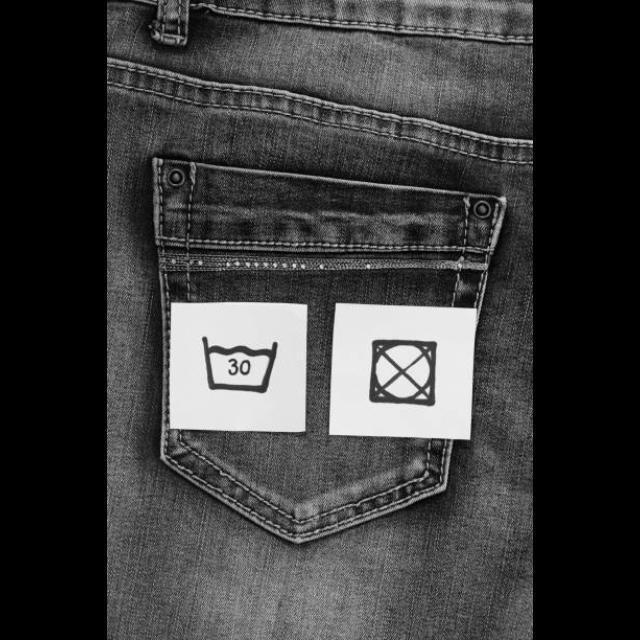30C: (196, 328, 284, 400)
DN_tumble_dry: (362, 328, 448, 412)
